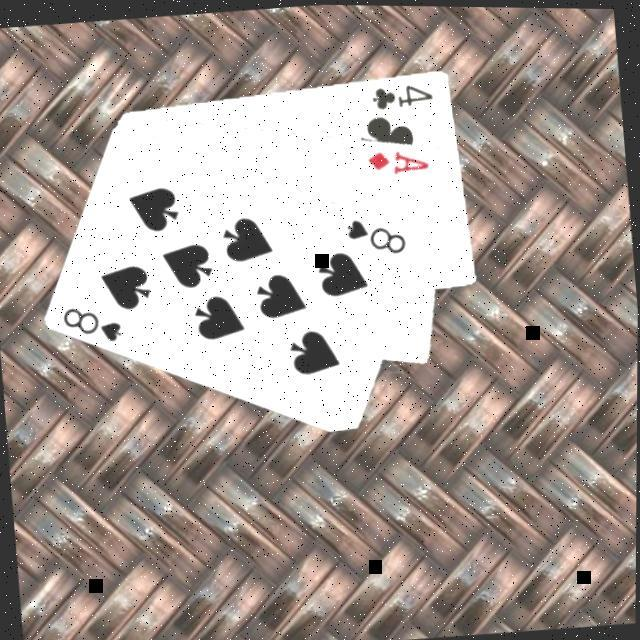4C: (366, 73, 436, 110)
8S: (339, 207, 409, 259), (56, 297, 124, 347)
AD: (362, 140, 431, 177)
